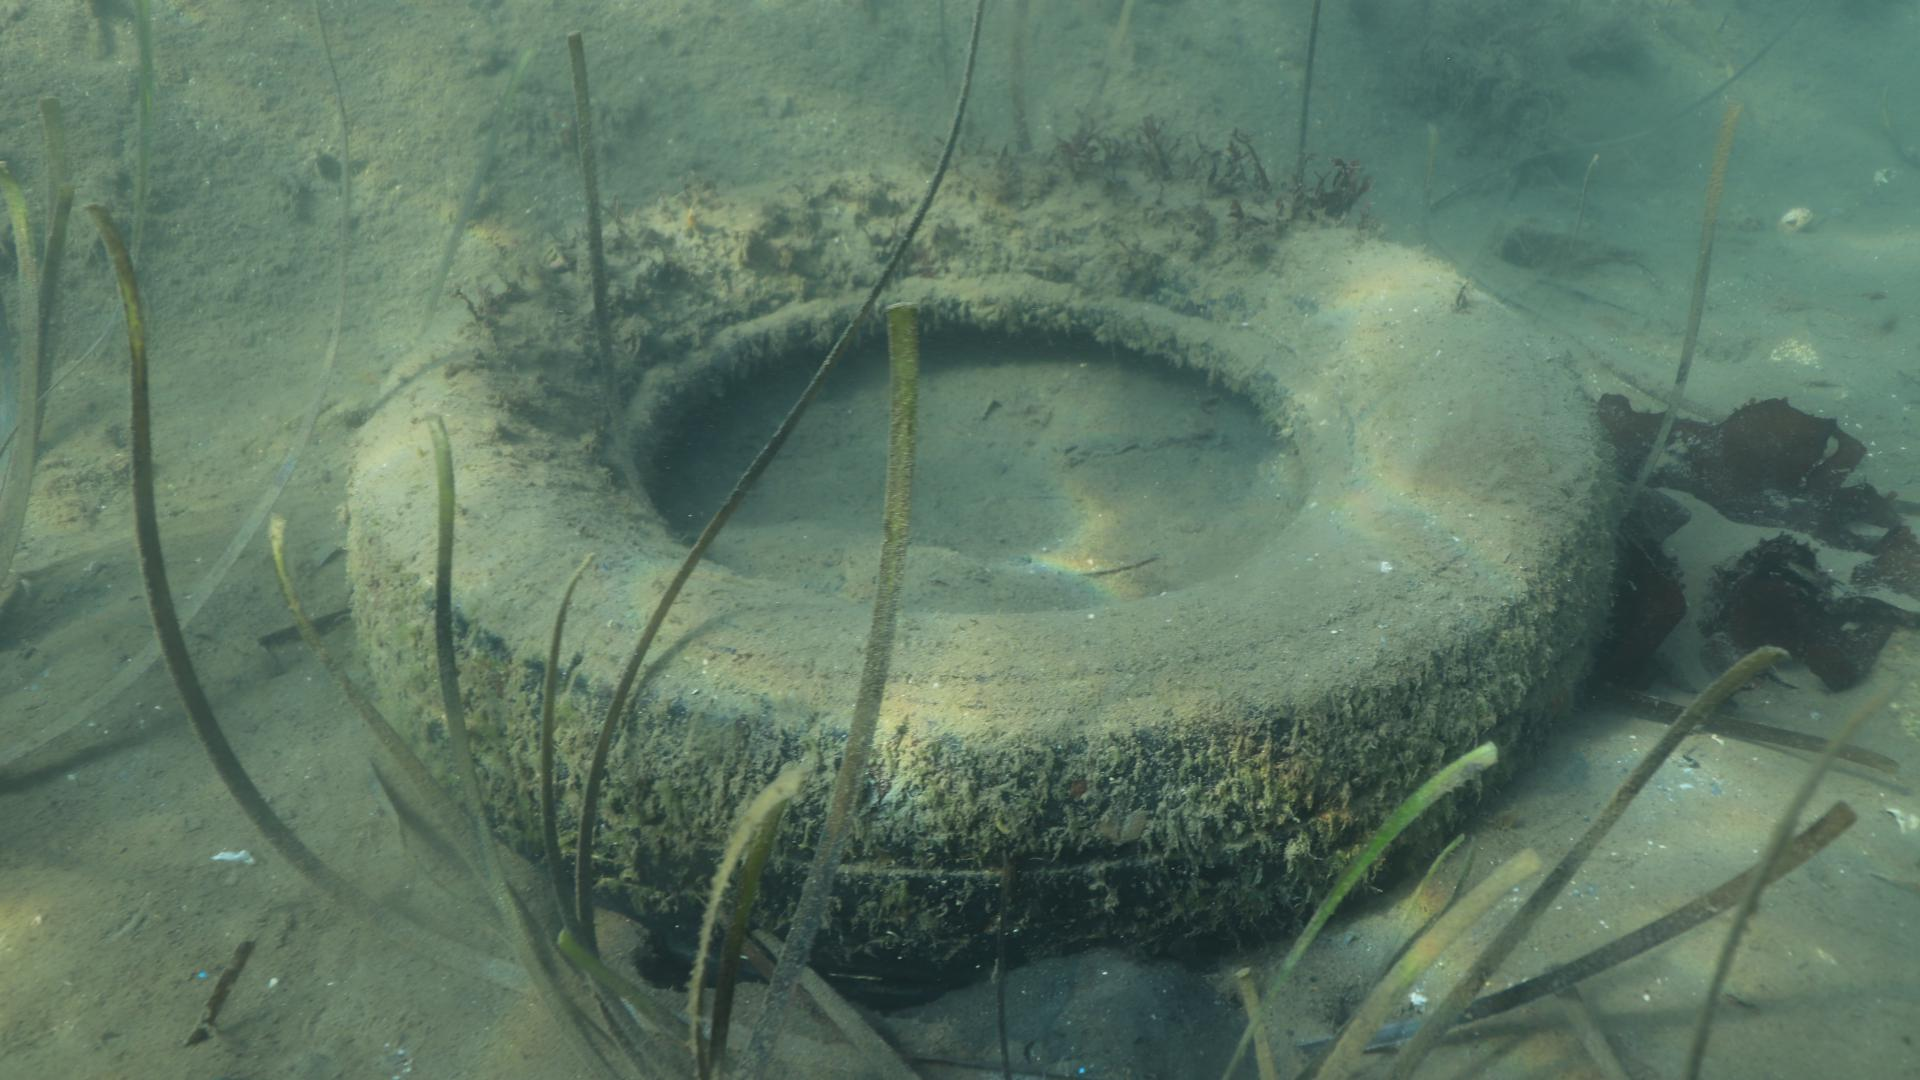tire: (343, 165, 1619, 976)
